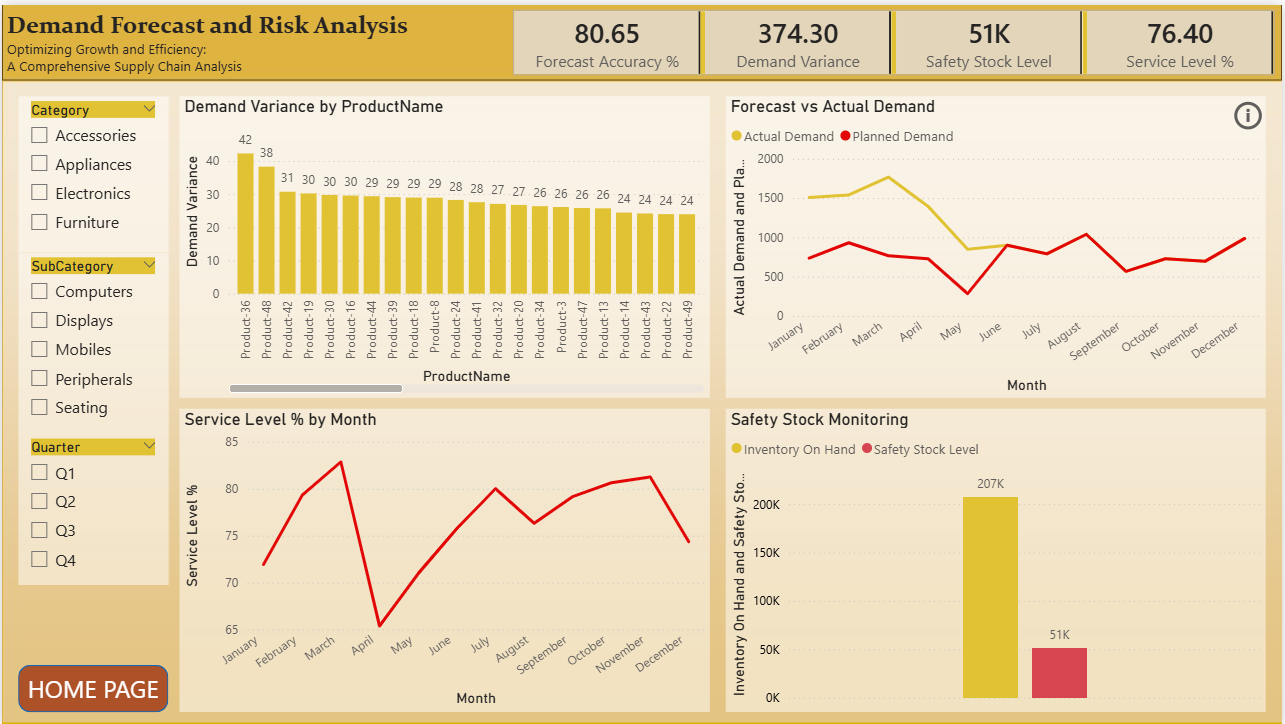

What the dashboard file says about the page in this screenshot:
{"tool":"powerbi","page":{"name":"Demand Forecast and risk analysis","canvas":[1280,720],"ordinal":5},"visuals":[{"type":"textbox","box":[0,0,1280,75],"z":0},{"type":"shape","box":[15.7,660,150,47.1],"z":1000},{"type":"cardVisual","fields":{"Data":["DelayReason.Forecast Accuracy %","DelayReason.Demand Variance","DelayReason.Safety Stock Level","DelayReason.Service Level %"]},"box":[505.7,0,774.3,75.7],"z":2000},{"type":"lineChart","title":"Forecast vs Actual Demand","fields":{"Category":["Dim_Date.Date.Variation.Date Hierarchy.Month"],"Y":["DelayReason.Actual Demand","DelayReason.Planned Demand"]},"box":[724.3,91.4,540,301.4],"z":3000},{"type":"actionButton","box":[1227.1,91.4,37.1,38.6],"z":4000},{"type":"clusteredColumnChart","fields":{"Category":["Dim_Product.ProductName"],"Y":["DelayReason.Demand Variance"]},"box":[177.1,91.4,530,301.4],"z":5000},{"type":"slicer","fields":{"Values":["Dim_Product.Category"]},"box":[15.7,91.4,150,155.7],"z":6000},{"type":"clusteredColumnChart","title":"Safety Stock Monitoring","fields":{"Y":["DelayReason.Inventory On Hand","DelayReason.Safety Stock Level"]},"box":[724.3,404.3,540,302.9],"z":7000},{"type":"lineChart","fields":{"Y":["DelayReason.Service Level %"],"Category":["Dim_Date.Date.Variation.Date Hierarchy.Month"]},"box":[177.1,404.3,530,302.9],"z":8000},{"type":"slicer","fields":{"Values":["Dim_Date.Quarter"]},"box":[15.7,428.6,150,151.4],"z":9000},{"type":"slicer","fields":{"Values":["Dim_Product.SubCategory"]},"box":[15.7,247.1,150,181.4],"z":10000}]}

Visuals, with their boxes in screenshot pixels (x1, y1, x2, y2), scaled from the page's 1280x720 canvas onto the 1285x724 screenshot:
textbox: 0, 0, 1284, 75
shape: 16, 664, 166, 711
cardVisual - DelayReason.Forecast Accuracy % x DelayReason.Demand Variance: 508, 0, 1284, 76
"Forecast vs Actual Demand" lineChart: 727, 92, 1269, 395
actionButton: 1232, 92, 1269, 131
clusteredColumnChart - Dim_Product.ProductName x DelayReason.Demand Variance: 178, 92, 710, 395
slicer - Dim_Product.Category: 16, 92, 166, 248
"Safety Stock Monitoring" clusteredColumnChart: 727, 407, 1269, 711
lineChart - DelayReason.Service Level % x Dim_Date.Date.Variation.Date Hierarchy.Month: 178, 407, 710, 711
slicer - Dim_Date.Quarter: 16, 431, 166, 583
slicer - Dim_Product.SubCategory: 16, 248, 166, 431
